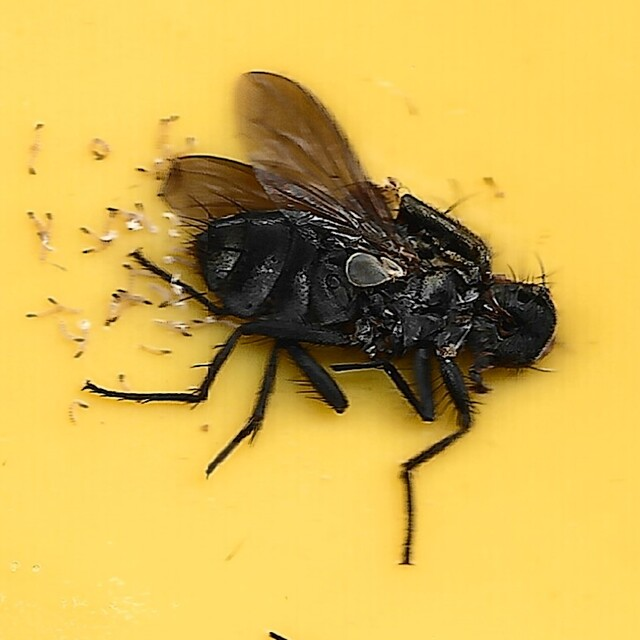Brachycera: (83, 71, 557, 569)
